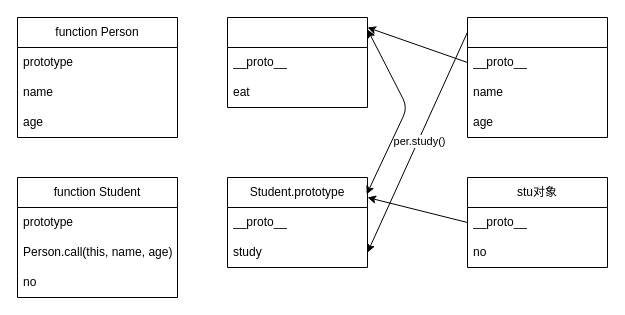
This 625x315 diagram has some shape labels left out. The box of each missing label's shape, as (x1, y1, x2, y2) in pixels:
Person.prototype: (226, 16, 368, 108)
per对象: (466, 16, 608, 138)
